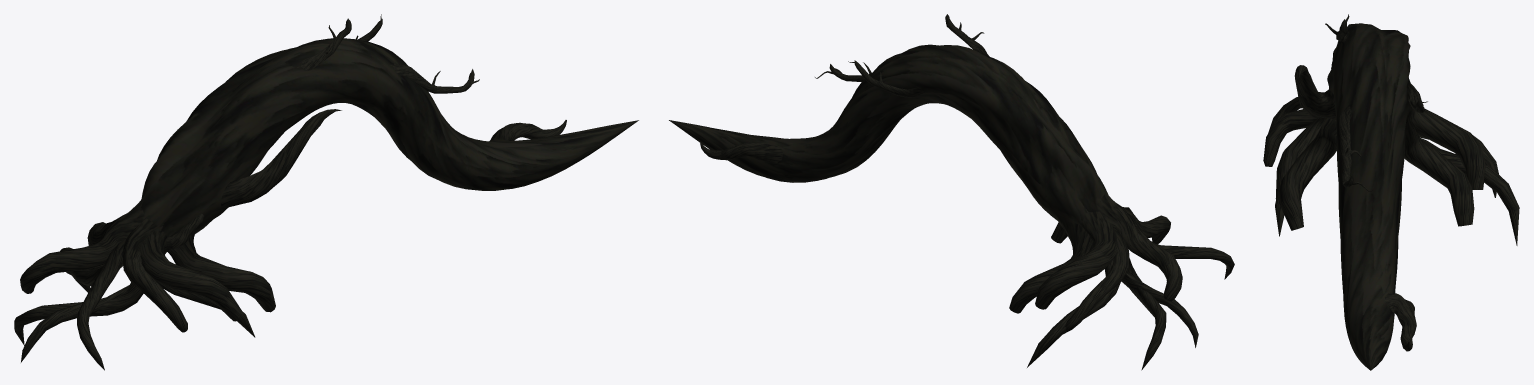
The picture shows the model from 3 angles, left to right: view 1: azimuth 30°, elevation 25°; view 2: azimuth 150°, elevation 25°; view 3: azimuth 270°, elevation 25°; orthographic projection. The views are drawn at different scales.
Parts seen in each view (by area): view 1: SM_SwampVines_01_LOD0; view 2: SM_SwampVines_01_LOD0; view 3: SM_SwampVines_01_LOD0.
Boxes of the visible parts, left/top/right/bottom form: SM_SwampVines_01_LOD0: left=14, top=14, right=638, bottom=370; SM_SwampVines_01_LOD0: left=669, top=14, right=1234, bottom=370; SM_SwampVines_01_LOD0: left=1263, top=14, right=1519, bottom=370.
Size of the model in its own units: 14.14 by 6.66 by 4.88.
Materials: 1 (1 with a texture image).
